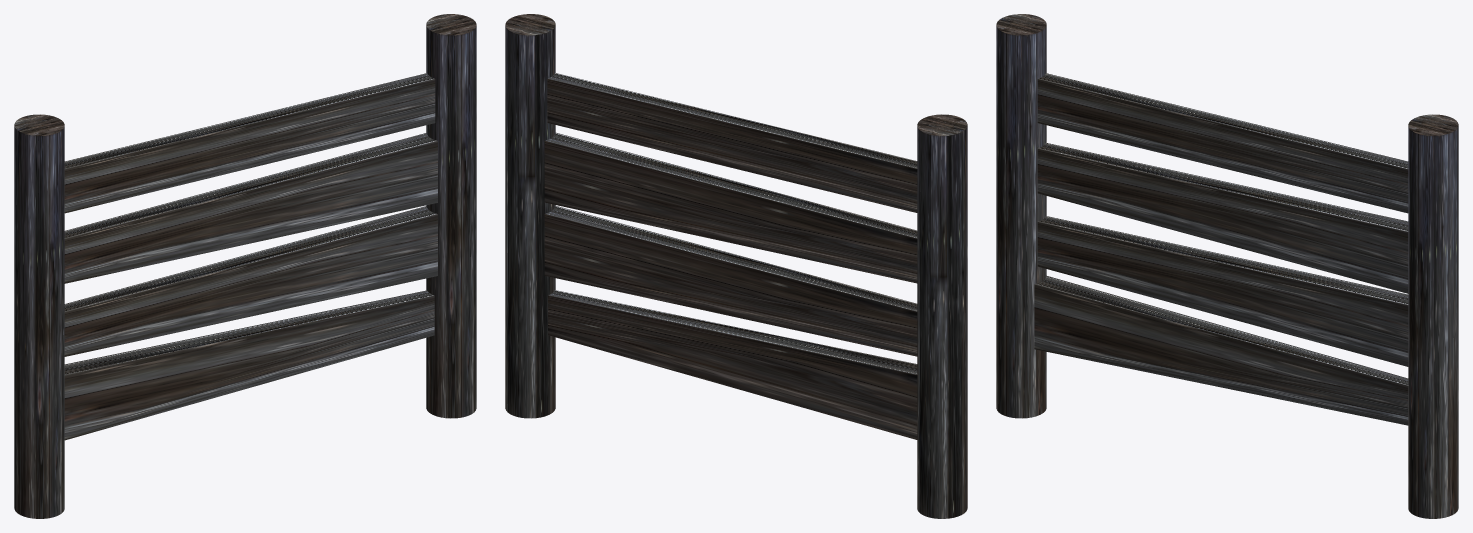
The model's file is Fence3.fbx.
3 views of the same model, side by side, from view 1: azimuth 30°, elevation 25°; view 2: azimuth 150°, elevation 25°; view 3: azimuth 330°, elevation 25° (orthographic).
Parts seen in each view (by area): view 1: .fence3; view 2: .fence3; view 3: .fence3.
Boxes of the visible parts, bbox=[...] form: .fence3: bbox=[14, 14, 476, 518]; .fence3: bbox=[505, 14, 967, 518]; .fence3: bbox=[996, 14, 1458, 518].
Bounding box in the file's own units: 553 × 445 × 53.71.
